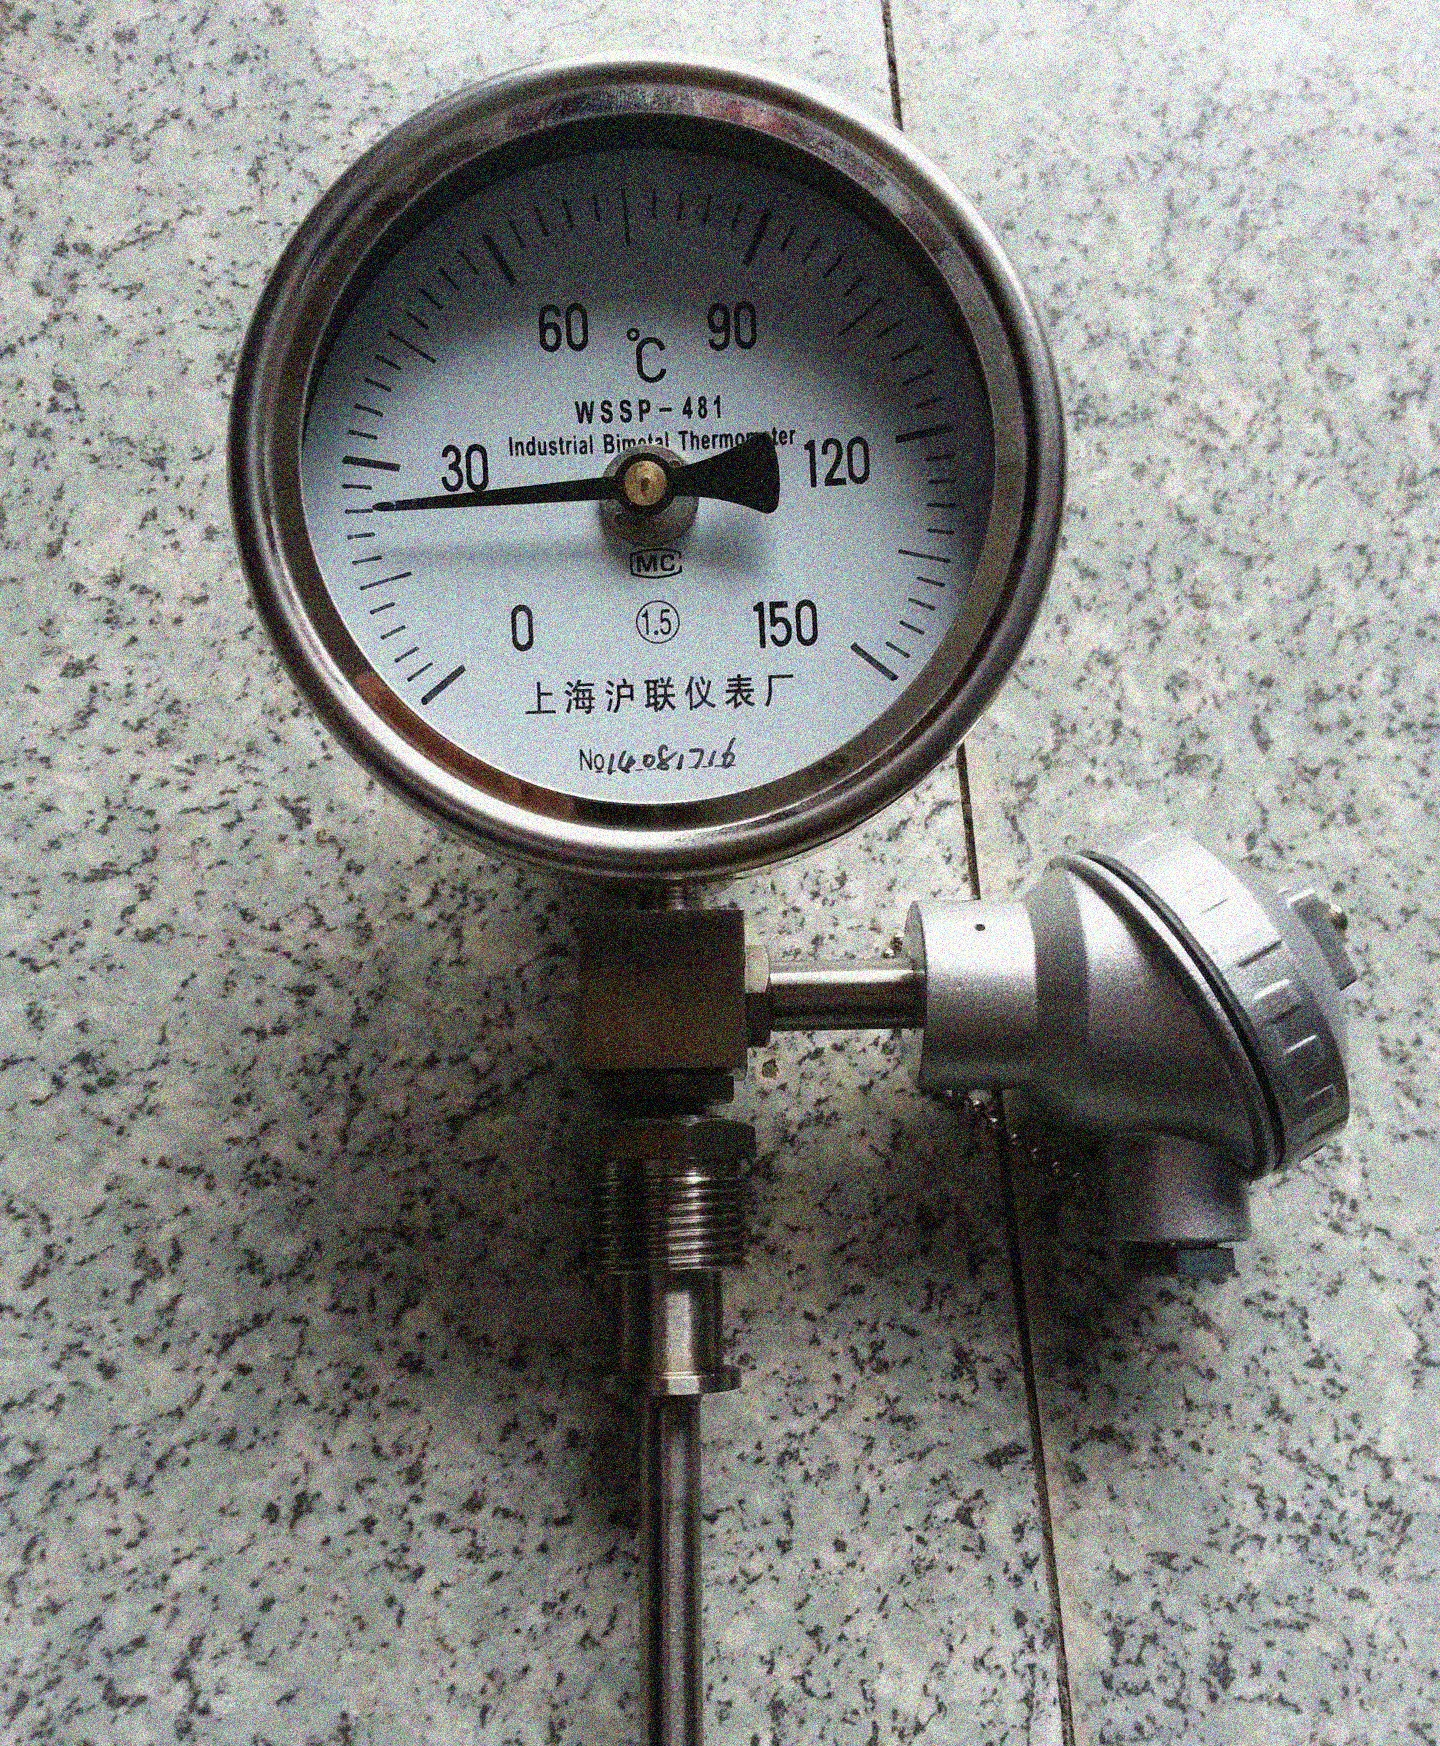pointer: (233, 58, 1066, 867)
